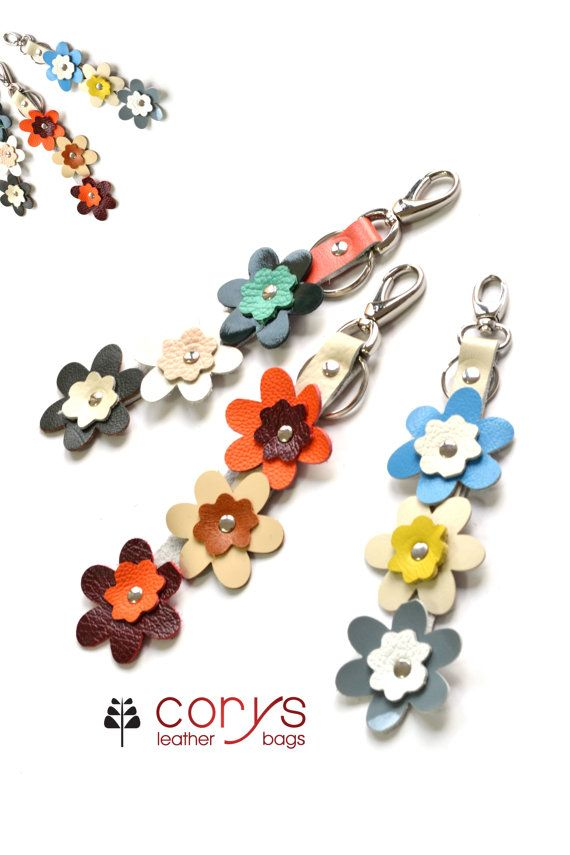cuero: (1, 29, 515, 736)
